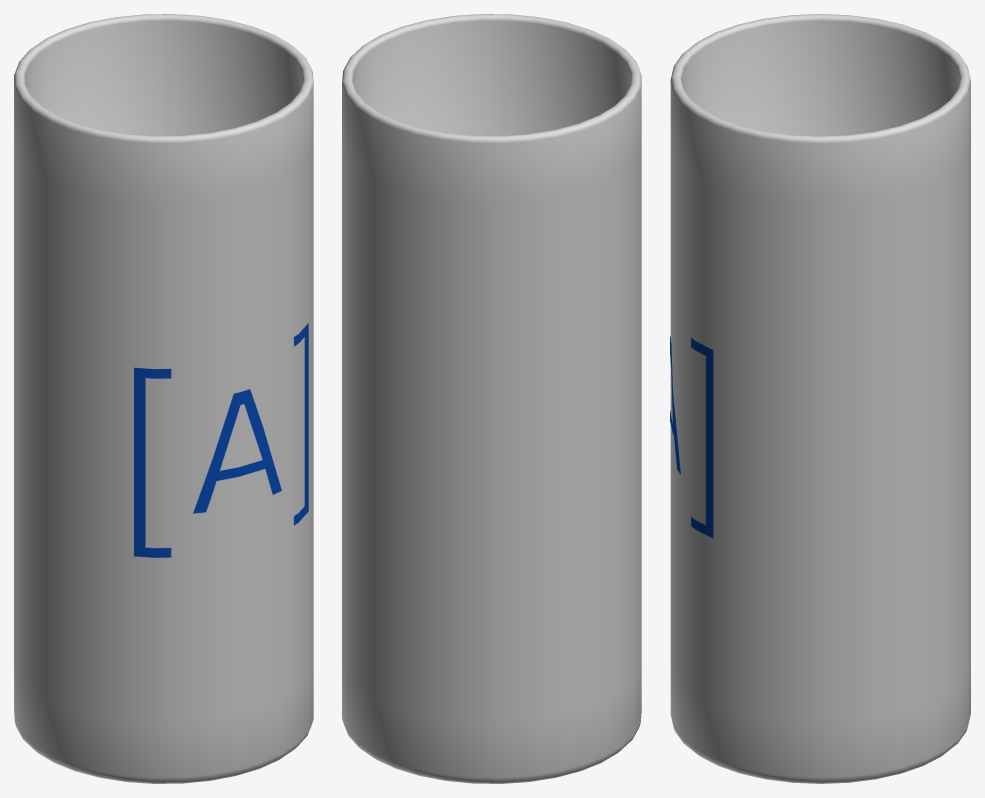
Rendered from 20oz-bottle.gltf.
3 renders of one model, left to right at view 1: azimuth 30°, elevation 25°; view 2: azimuth 150°, elevation 25°; view 3: azimuth 270°, elevation 25°, orthographic.
Visible parts, largest first — view 1: Cylinder; view 2: Cylinder; view 3: Cylinder.
Boxes of the visible parts, x1,y1,x2,y2 form: Cylinder: (14, 14, 313, 783); Cylinder: (342, 14, 641, 783); Cylinder: (670, 14, 970, 783).
Bounding box in the file's own units: 0.057 × 0.1358 × 0.0571.
2 materials, 1 textured.
